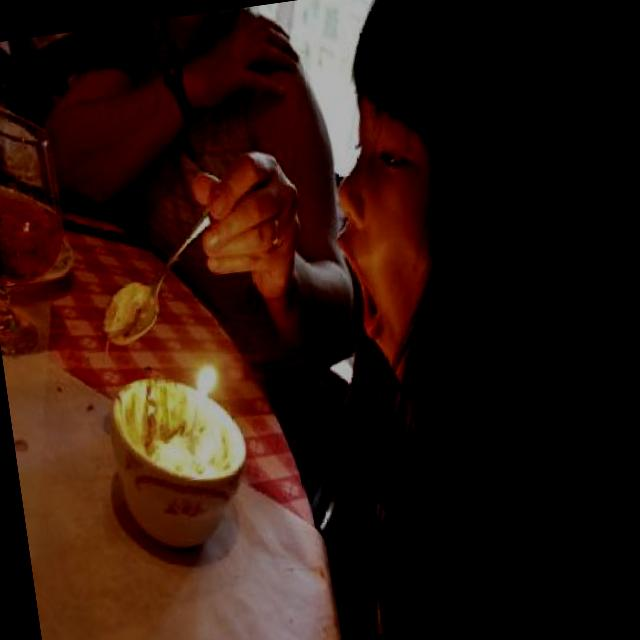Person: (250, 0, 640, 631), (22, 0, 381, 523), (0, 24, 139, 116)
